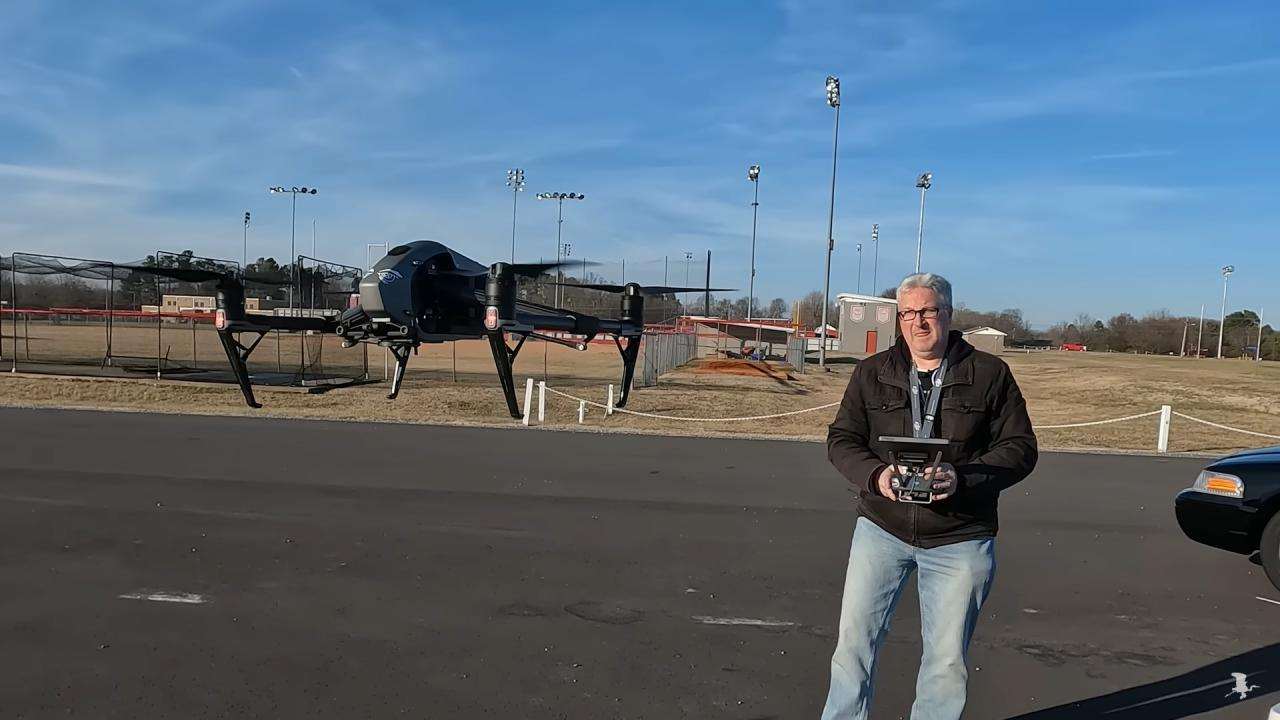Drone: (91, 234, 754, 430)
